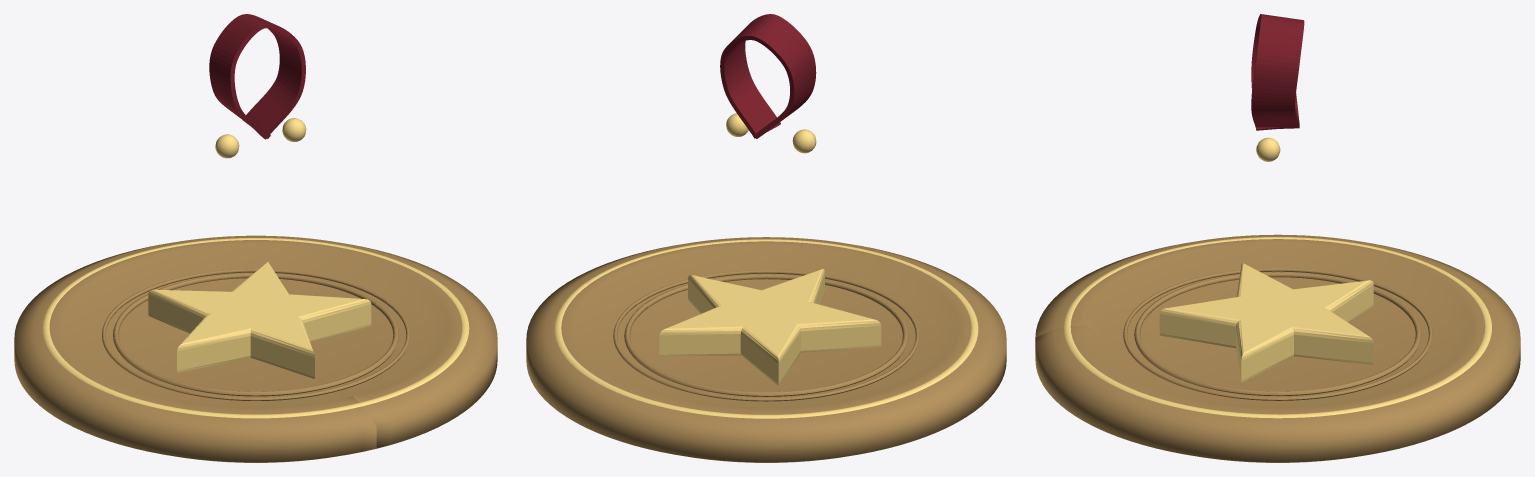
File: valor-medal.glb
3 views of the same model, side by side, from view 1: azimuth 30°, elevation 25°; view 2: azimuth 150°, elevation 25°; view 3: azimuth 270°, elevation 25° (orthographic).
Visible parts, largest first — view 1: MedalBody, StarEmblem, RibbonLoop, RimInlay, EngravedGrooveOuter, EngravedGrooveOuter2; view 2: MedalBody, StarEmblem, RibbonLoop, RimInlay, EngravedGrooveOuter, EngravedGrooveOuter2; view 3: MedalBody, StarEmblem, RibbonLoop, RimInlay, EngravedGrooveOuter, EngravedGrooveOuter2.
Part boxes in pixels (x1,y1,x2,y2): MedalBody: (14, 235, 497, 462); StarEmblem: (148, 261, 371, 378); RibbonLoop: (209, 14, 305, 139); RimInlay: (42, 238, 469, 418); EngravedGrooveOuter: (113, 273, 398, 396); EngravedGrooveOuter2: (102, 269, 409, 400); MedalBody: (526, 237, 1006, 462); StarEmblem: (659, 269, 881, 385); RibbonLoop: (720, 14, 816, 138); RimInlay: (554, 239, 978, 418); EngravedGrooveOuter: (624, 274, 908, 396); EngravedGrooveOuter2: (613, 270, 919, 401); MedalBody: (1035, 234, 1520, 462); StarEmblem: (1159, 263, 1373, 382); RibbonLoop: (1251, 14, 1304, 130); RimInlay: (1064, 237, 1491, 418); EngravedGrooveOuter: (1134, 272, 1421, 396); EngravedGrooveOuter2: (1123, 268, 1432, 400).
Size of the model in its own units: 2 by 1.6 by 2.
